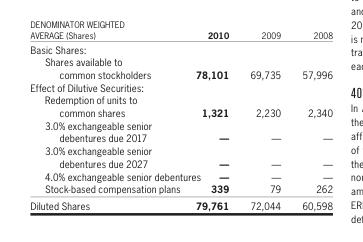table: (29, 28, 332, 210)
table column: (29, 28, 197, 210), (238, 28, 290, 210), (290, 28, 332, 210), (197, 28, 238, 210)
table column header: (29, 28, 332, 41)
table projected row header: (29, 41, 332, 55), (29, 80, 332, 93)
table row: (29, 118, 332, 144), (29, 55, 332, 80), (29, 93, 332, 118), (29, 144, 332, 169), (29, 41, 332, 55), (29, 182, 332, 196), (29, 196, 332, 210), (29, 28, 332, 41), (29, 80, 332, 93), (29, 169, 332, 182)
